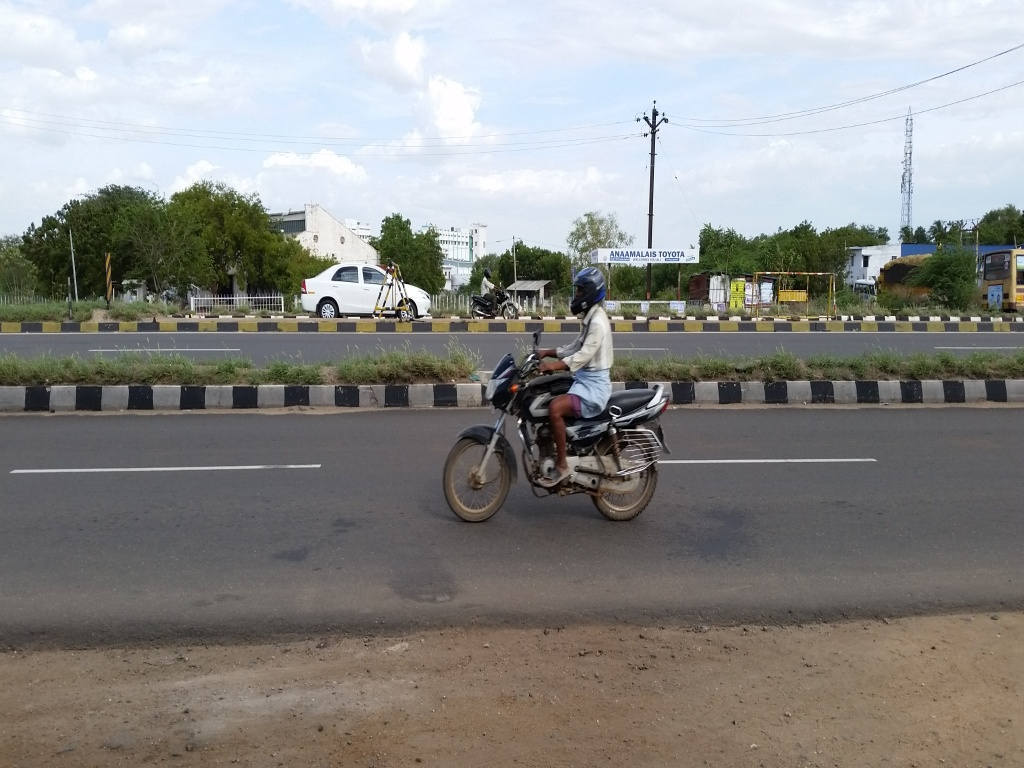biker: (423, 236, 702, 539), (456, 245, 528, 321)
helmet: (565, 252, 620, 330), (478, 263, 498, 285)
